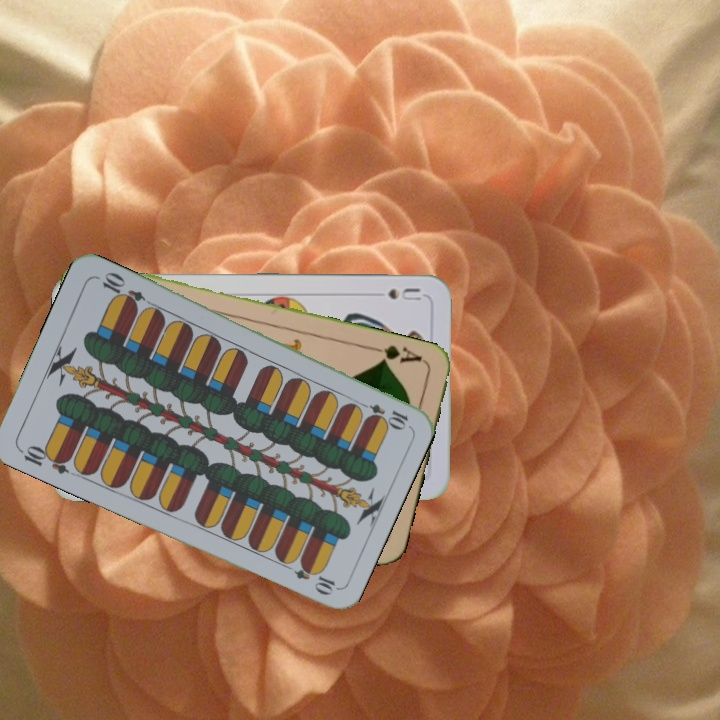E10: (15, 441, 73, 477), (353, 397, 411, 430)
GA: (368, 341, 427, 367)
SU: (384, 284, 424, 303)
